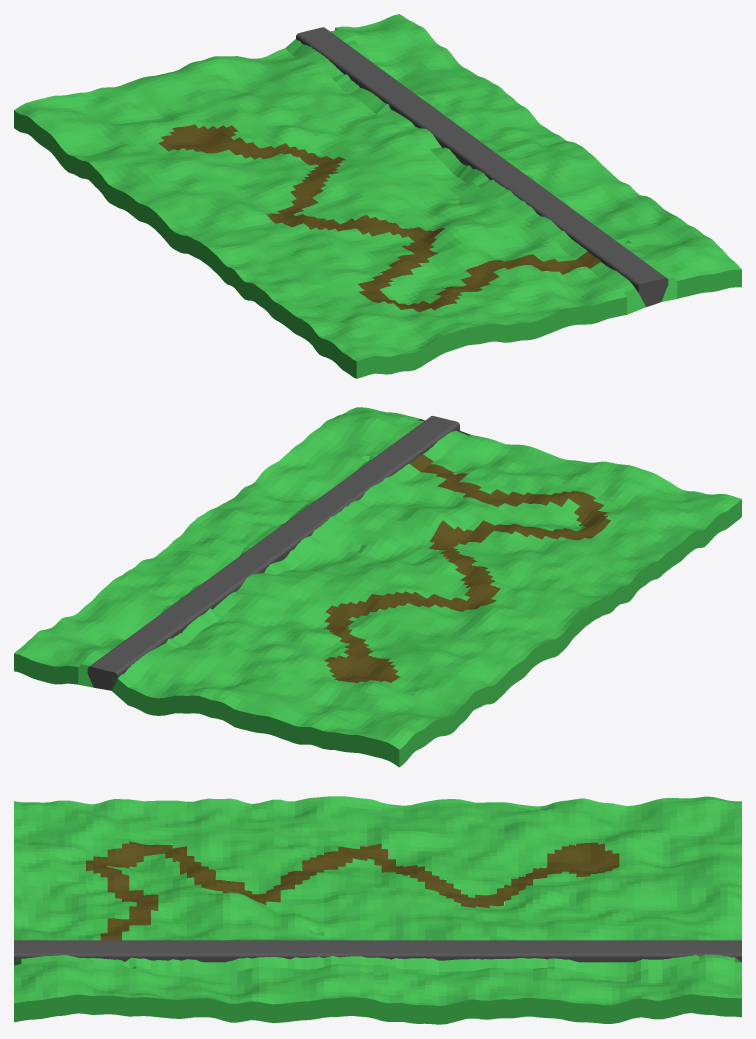
The model's file is ground.gltf.
3 renders of one model, top to bottom at view 1: azimuth 30°, elevation 25°; view 2: azimuth 150°, elevation 25°; view 3: azimuth 270°, elevation 25°, orthographic. The views are drawn at different scales.
Visible parts, largest first — view 1: Plane.001; view 2: Plane.001; view 3: Plane.001.
Part boxes in pixels (x1,y1,x2,y2): Plane.001: (14,14,741,378); Plane.001: (14,407,741,767); Plane.001: (14,796,741,1024).
Size of the model in its own units: 25.97 by 2.42 by 40.
